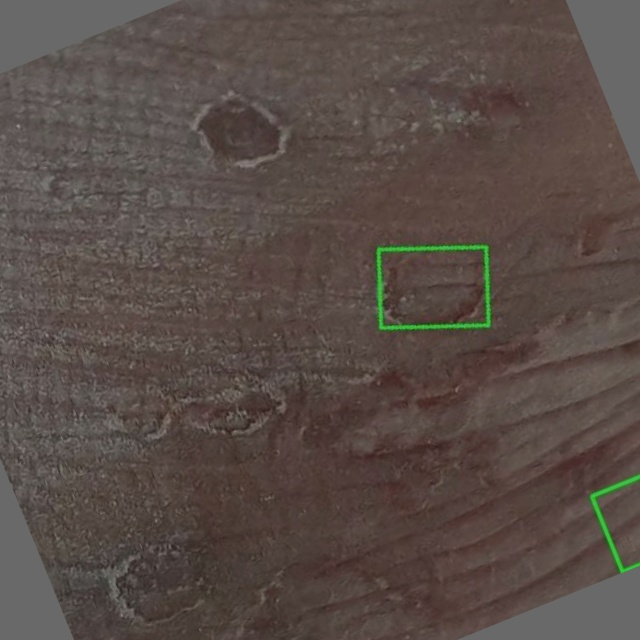Contact Dermatitis: (378, 247, 487, 328)
